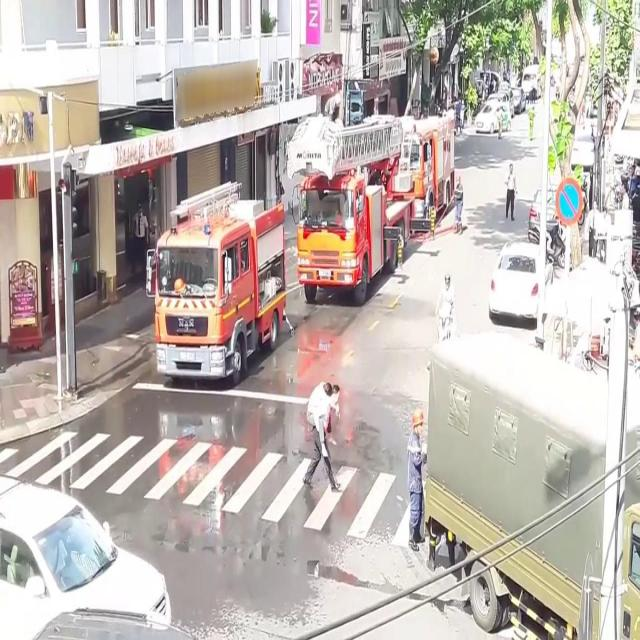car: (0, 474, 171, 640), (487, 240, 553, 332), (473, 100, 511, 130)
truck: (424, 330, 640, 640), (154, 182, 286, 382), (297, 113, 413, 306), (382, 112, 454, 232)
